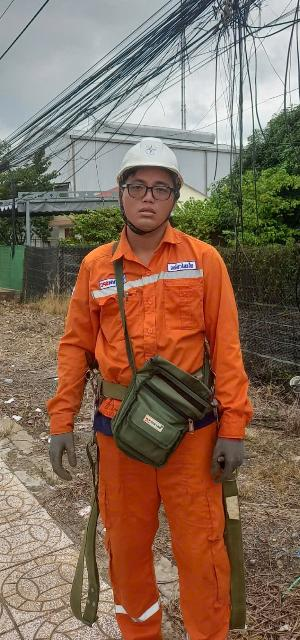gloves: (204, 432, 255, 486), (42, 421, 81, 486)
harness: (71, 368, 242, 409)
helmet: (108, 129, 199, 192)
